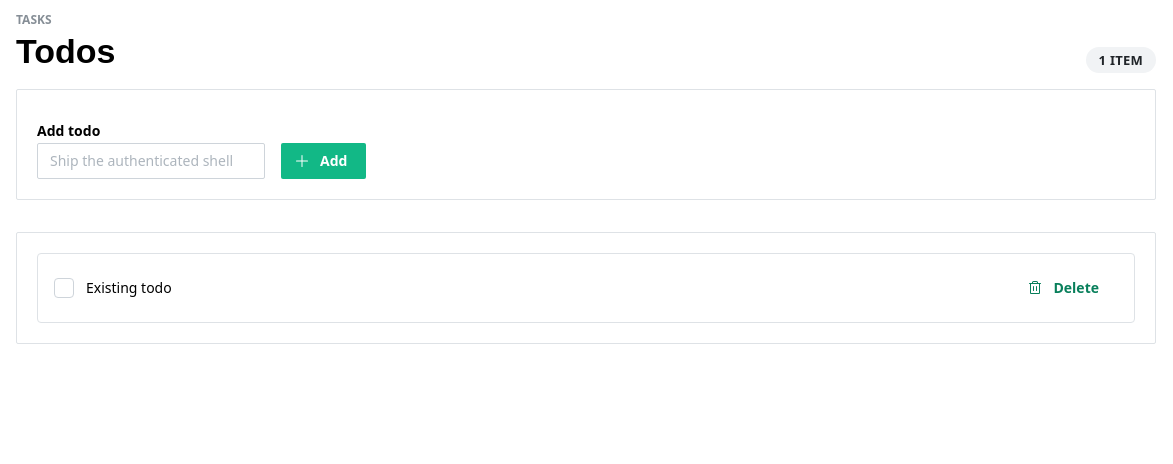
it: TodosPage › shows an inline create error and keeps the current todos visible on failure
This screenshot has width=1173, height=464.
expect the text "Existing todo" is shown: met, box [86,278,172,297]
Type "Broken todo" into the field named "Todo title".
click(151, 161); type("Broken todo")  # box [37,143,265,179]
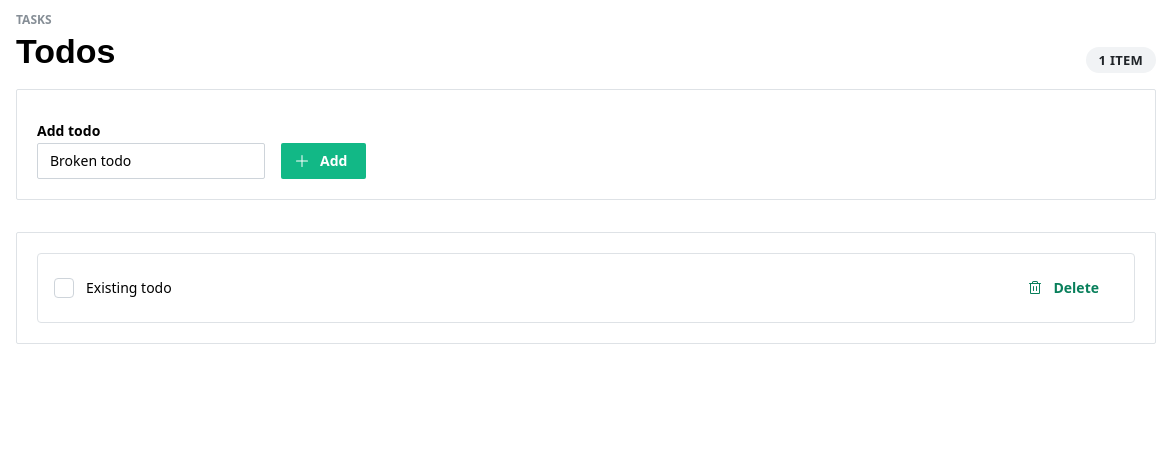
Click the button "Add".
click(324, 161)  # box [281,143,366,179]
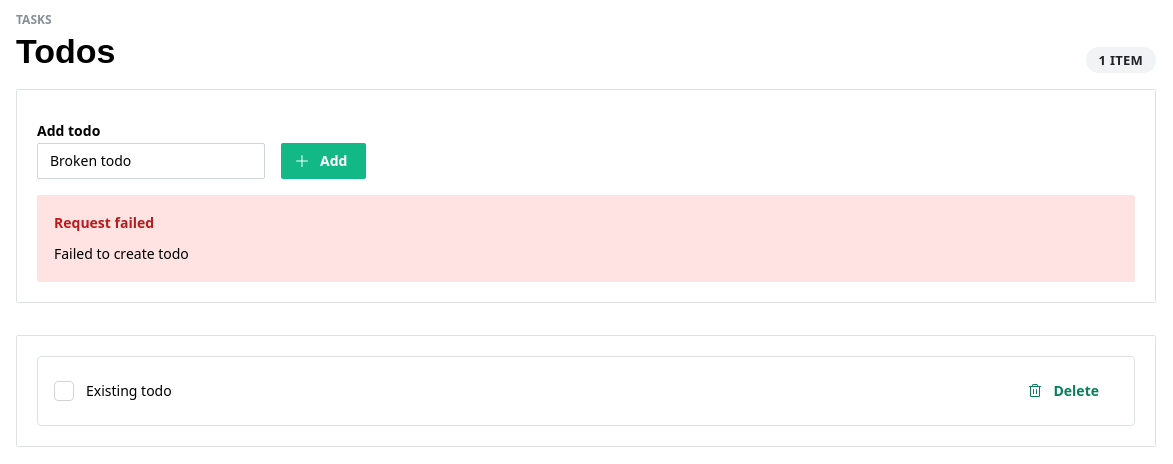
expect the text "Existing todo" is shown: met, box [86,381,172,400]
expect the text "Failed to create todo" is shown: met, box [54,244,189,264]
